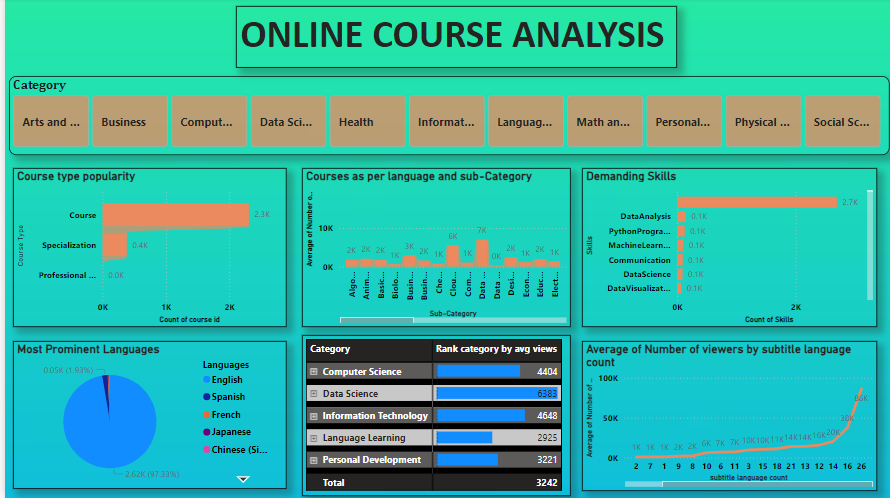

The page's visual inventory and layout, read from the dashboard file:
{"tool":"powerbi","page":{"name":"Page 1","canvas":[1280,720],"ordinal":0},"visuals":[{"type":"advancedSlicerVisual","fields":{"Values":["Online_Courses.Category"]},"box":[5.8,112.4,1268.3,113.8],"z":0},{"type":"barChart","title":"Course type popularity","fields":{"Category":["Online_Courses.Course Type"],"Y":["CountNonNull(Online_Courses.course id)"]},"box":[11.7,245.2,394.1,229.1],"z":1000},{"type":"textbox","box":[332.8,11.7,634.9,89],"z":2000},{"type":"columnChart","title":"Courses as per language and sub-Category","fields":{"Category":["Online_Courses.Sub-Category","Online_Courses.Language"],"Y":["Avg(Online_Courses.Number of viewers)"]},"box":[427.6,245.2,386.8,229.1],"z":3000},{"type":"clusteredBarChart","title":"Demanding Skills","fields":{"Category":["skills set.Skills"],"Y":["CountNonNull(skills set.Skills)"]},"box":[830.5,245.2,424.7,229.1],"z":4000},{"type":"pieChart","title":"Most Prominent Languages","fields":{"Category":["Online_Courses.Language"],"Y":["CountNonNull(Online_Courses.course id)"]},"box":[11.7,493.3,394.1,213.1],"z":5000},{"type":"pivotTable","fields":{"Rows":["Online_Courses.Category","Online_Courses.Language"],"Values":["Online_Courses.Rank category by avg views"]},"box":[427.6,484.6,386.8,232.1],"z":6000},{"type":"lineChart","fields":{"Category":["Online_Courses.subtitle language count"],"Y":["Avg(Online_Courses.Number of viewers)"]},"box":[830.5,493.3,424.7,216],"z":7000}]}

Visuals, with their boxes in screenshot pixels (x1, y1, x2, y2), scaled from the page's 1280x720 canvas onto the 890x498 screenshot:
advancedSlicerVisual - Online_Courses.Category: <box>4,78,886,156</box>
"Course type popularity" barChart: <box>8,170,282,328</box>
textbox: <box>231,8,673,70</box>
"Courses as per language and sub-Category" columnChart: <box>297,170,566,328</box>
"Demanding Skills" clusteredBarChart: <box>577,170,873,328</box>
"Most Prominent Languages" pieChart: <box>8,341,282,489</box>
pivotTable - Online_Courses.Category x Online_Courses.Language: <box>297,335,566,496</box>
lineChart - Online_Courses.subtitle language count x Avg(Online_Courses.Number of viewers): <box>577,341,873,491</box>
